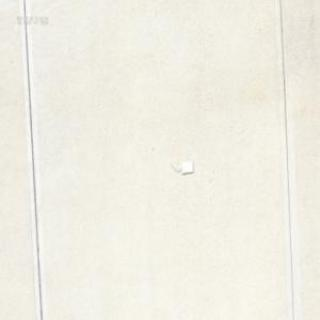LuggageTagtrack_idkeyframe: (166, 157, 193, 175)
